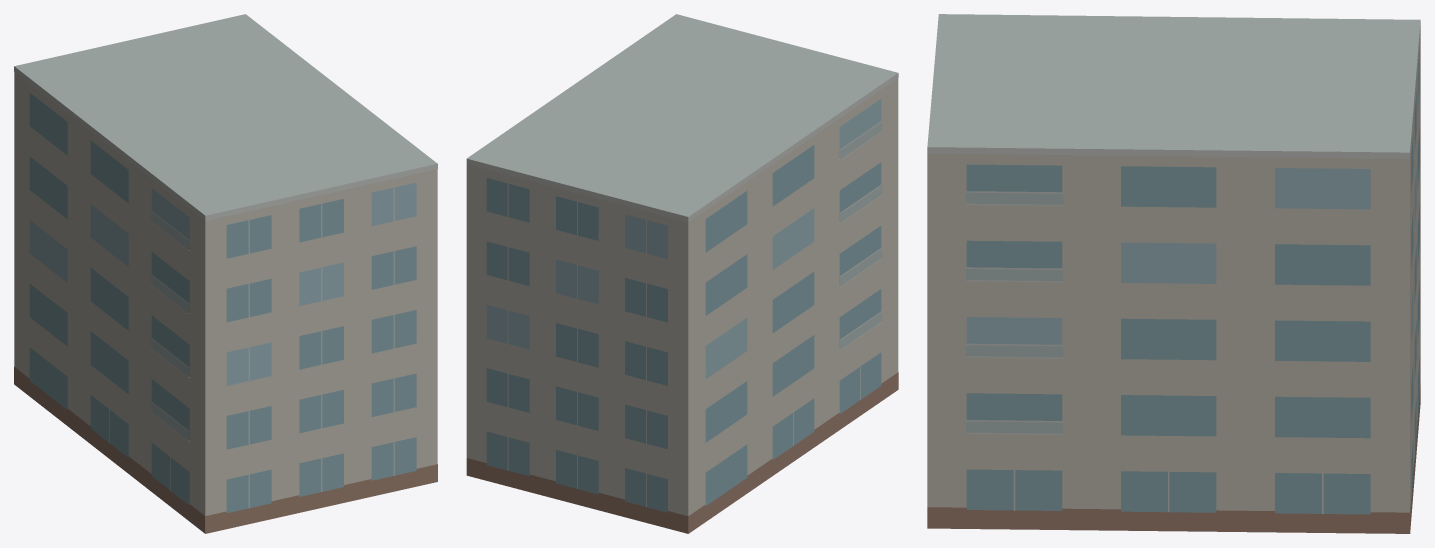
Rendered from survey-upis-32984973.glb.
The picture shows the model from 3 angles, left to right: view 1: azimuth 30°, elevation 25°; view 2: azimuth 150°, elevation 25°; view 3: azimuth 270°, elevation 25°; orthographic projection. The views are drawn at different scales.
Parts seen in each view (by area): view 1: survey-upis-32984973.tmp; view 2: survey-upis-32984973.tmp; view 3: survey-upis-32984973.tmp.
Boxes of the visible parts, x1,y1,x2,y2 form: survey-upis-32984973.tmp: (14, 14, 437, 533); survey-upis-32984973.tmp: (466, 14, 898, 533); survey-upis-32984973.tmp: (927, 14, 1420, 533).
Bounding box in the file's own units: 11.35 × 14.55 × 17.07.
